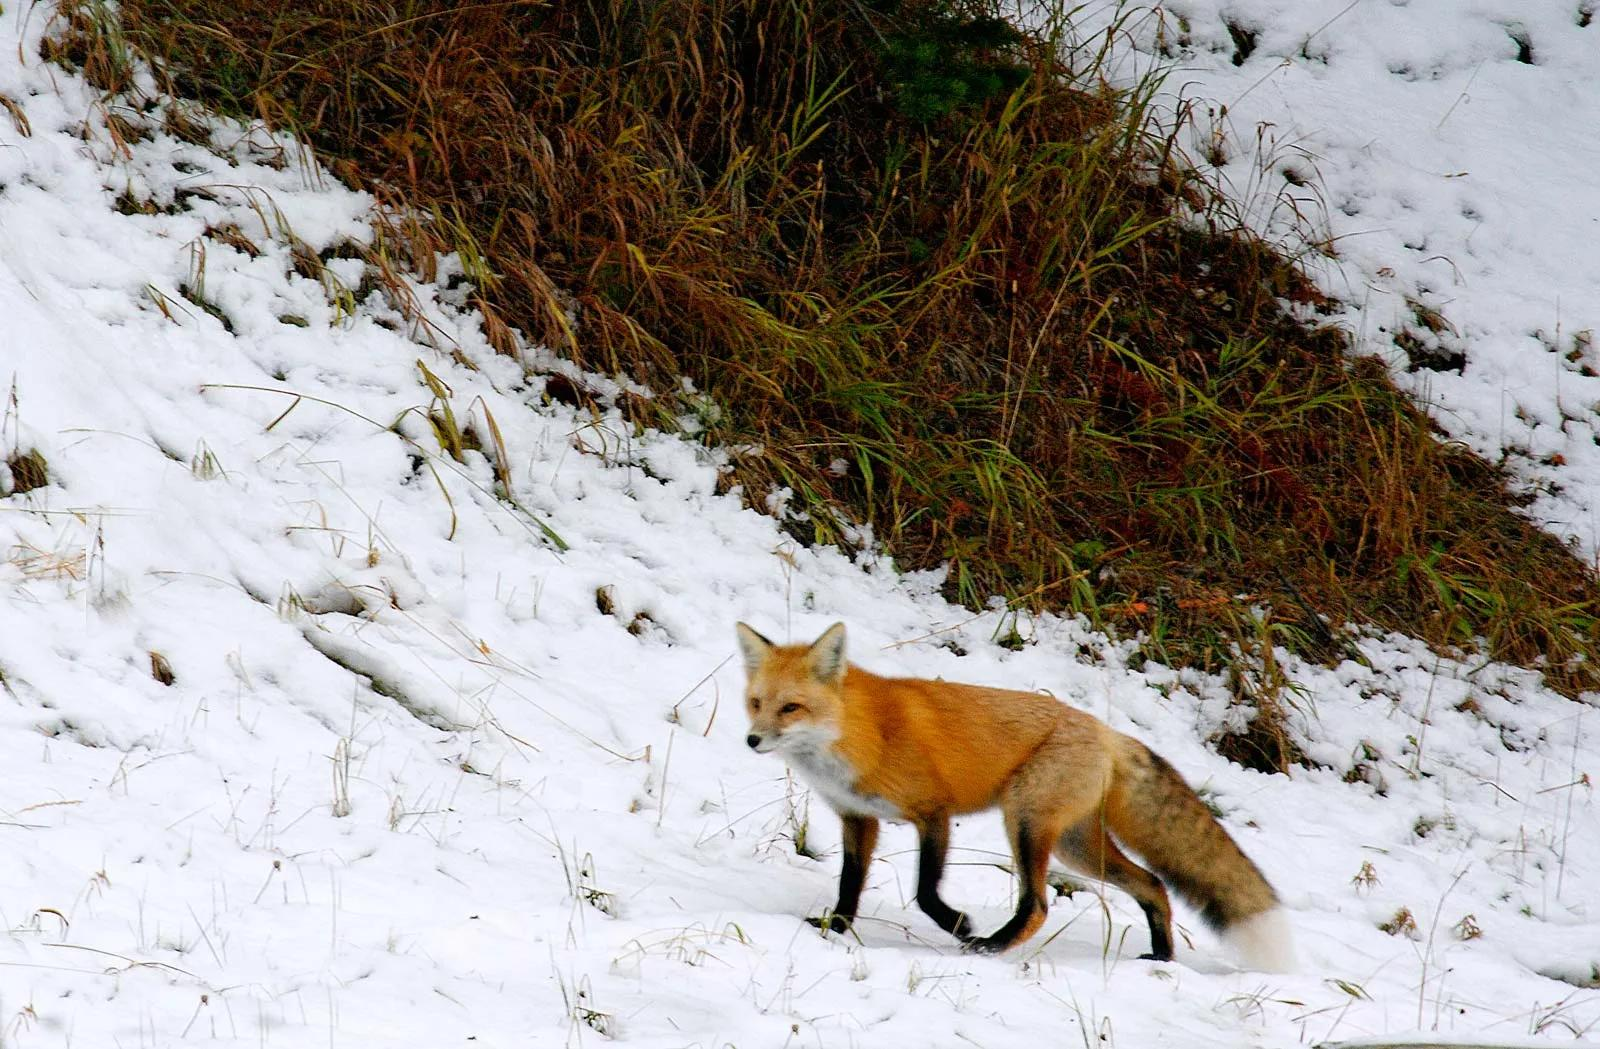fox: (728, 611, 1305, 981)
